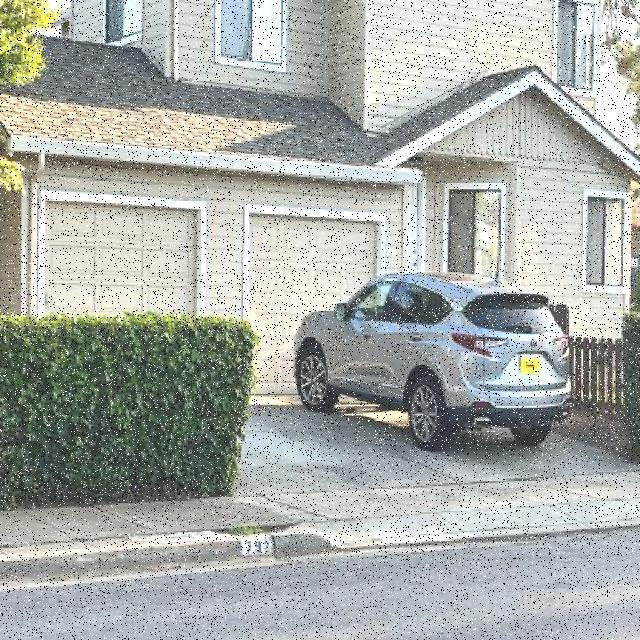LicensePlate: (519, 355, 540, 373)
